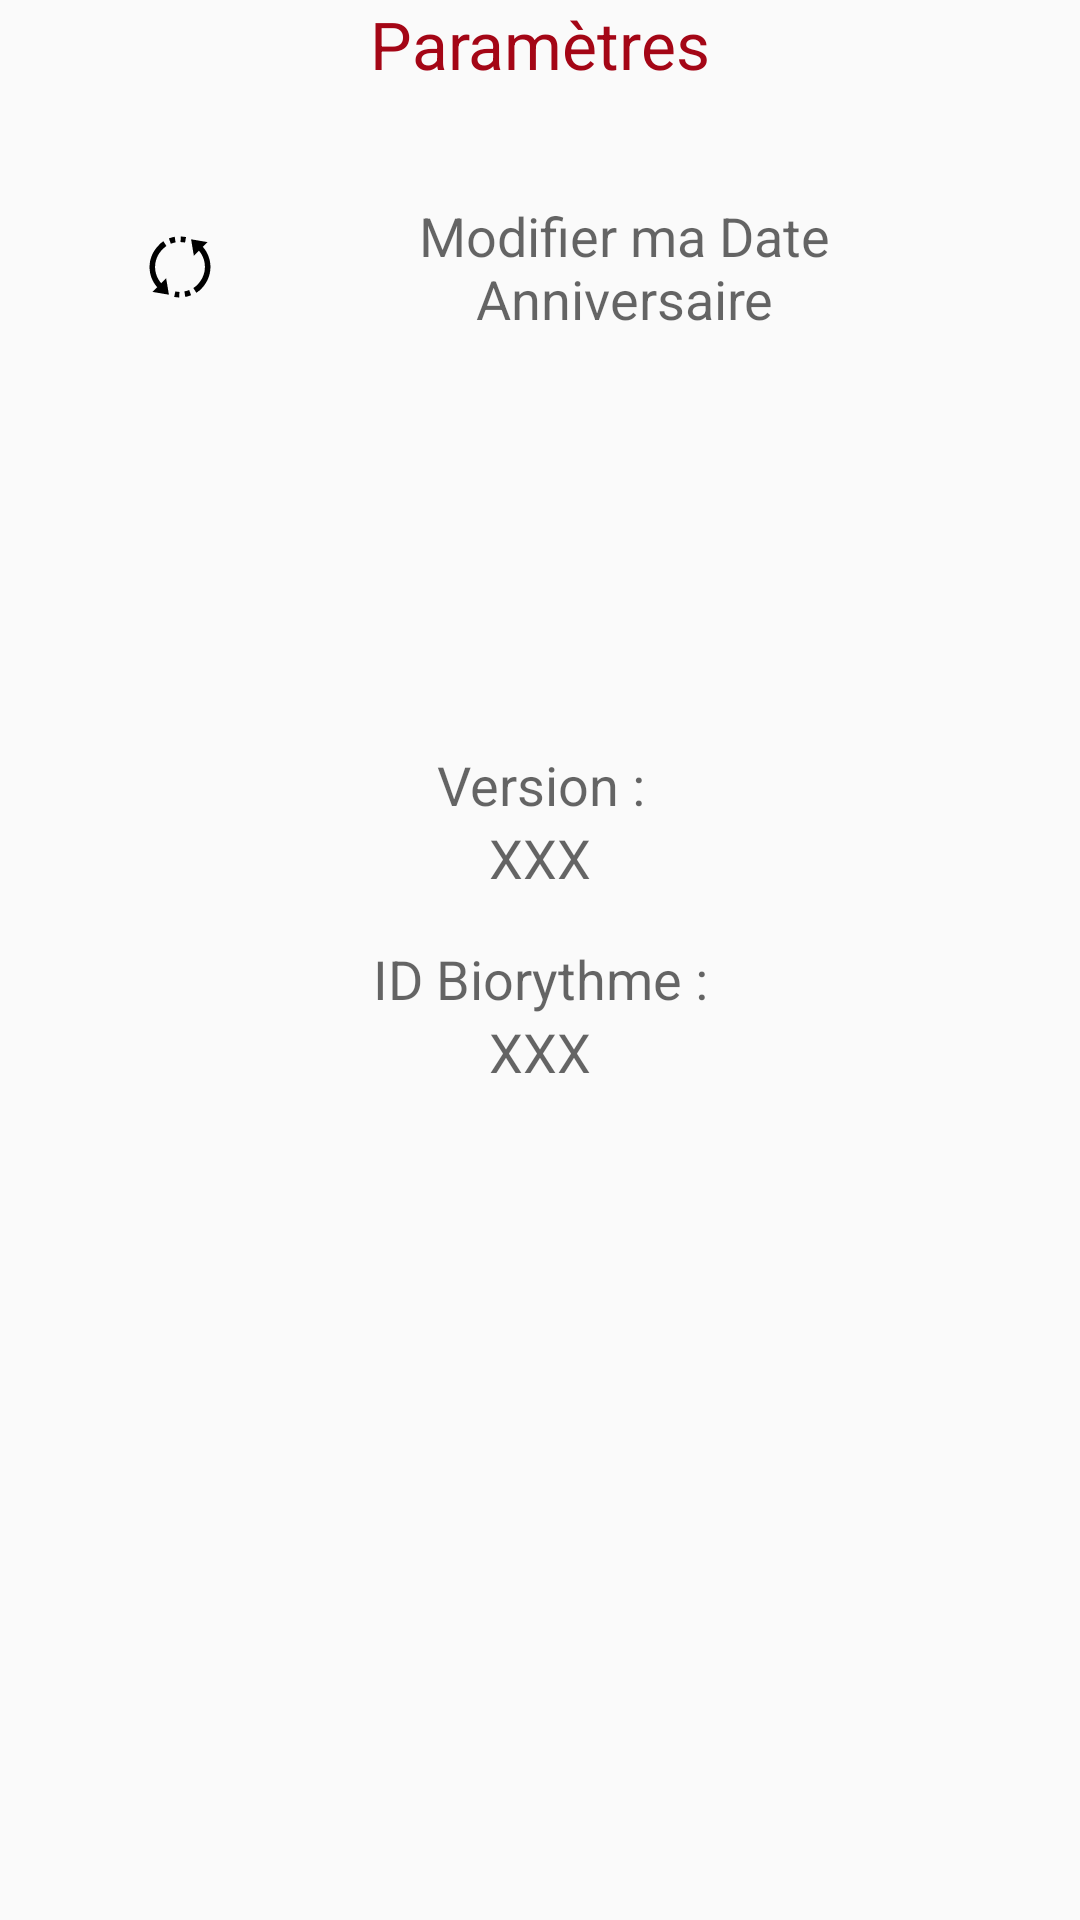

Icons on this 1080 × 1920 Android screen, each with its box as region(x1, y1, x2, y2):
switch: region(149, 236, 211, 298)
